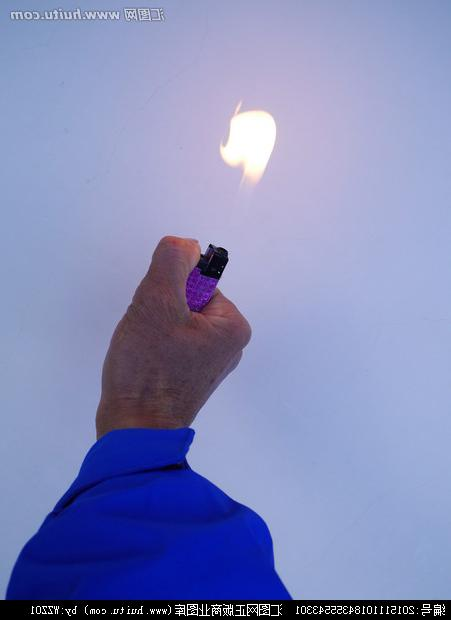fire: (215, 99, 293, 223)
